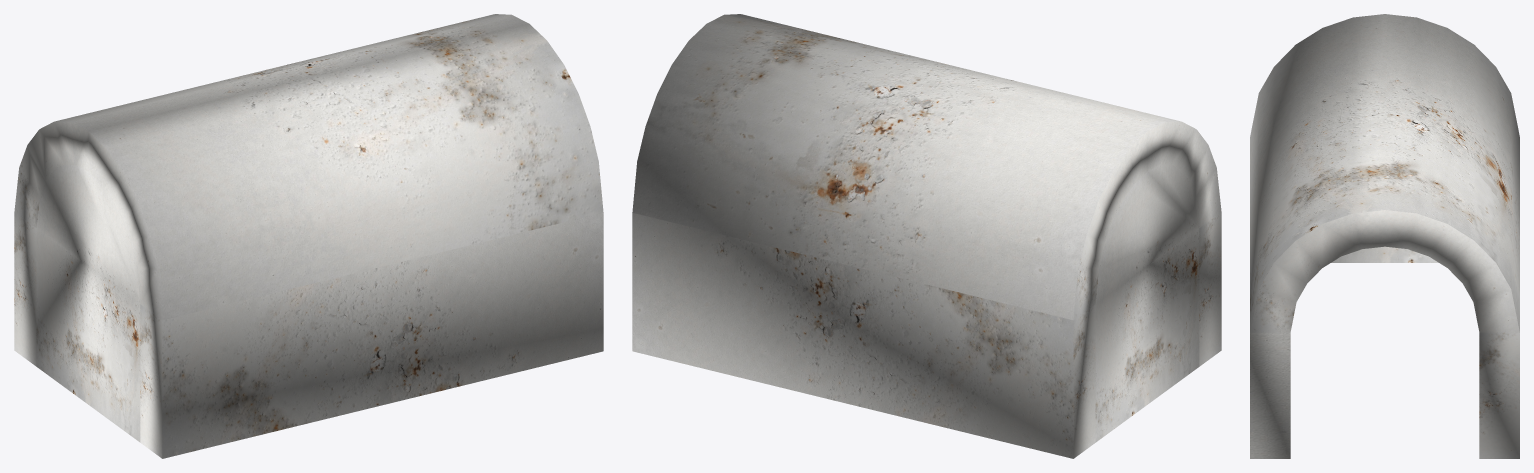
Rendered from tunel.fbx.
3 views of the same model, side by side, from view 1: azimuth 30°, elevation 25°; view 2: azimuth 150°, elevation 25°; view 3: azimuth 270°, elevation 25° (orthographic). The views are drawn at different scales.
Parts seen in each view (by area): view 1: Cube; view 2: Cube; view 3: Cube.
Boxes of the visible parts, left/top/right/bottom form: Cube: left=14, top=14, right=603, bottom=458; Cube: left=632, top=14, right=1221, bottom=458; Cube: left=1250, top=14, right=1519, bottom=458.
Size of the model in its own units: 2357 by 1396 by 1371.
